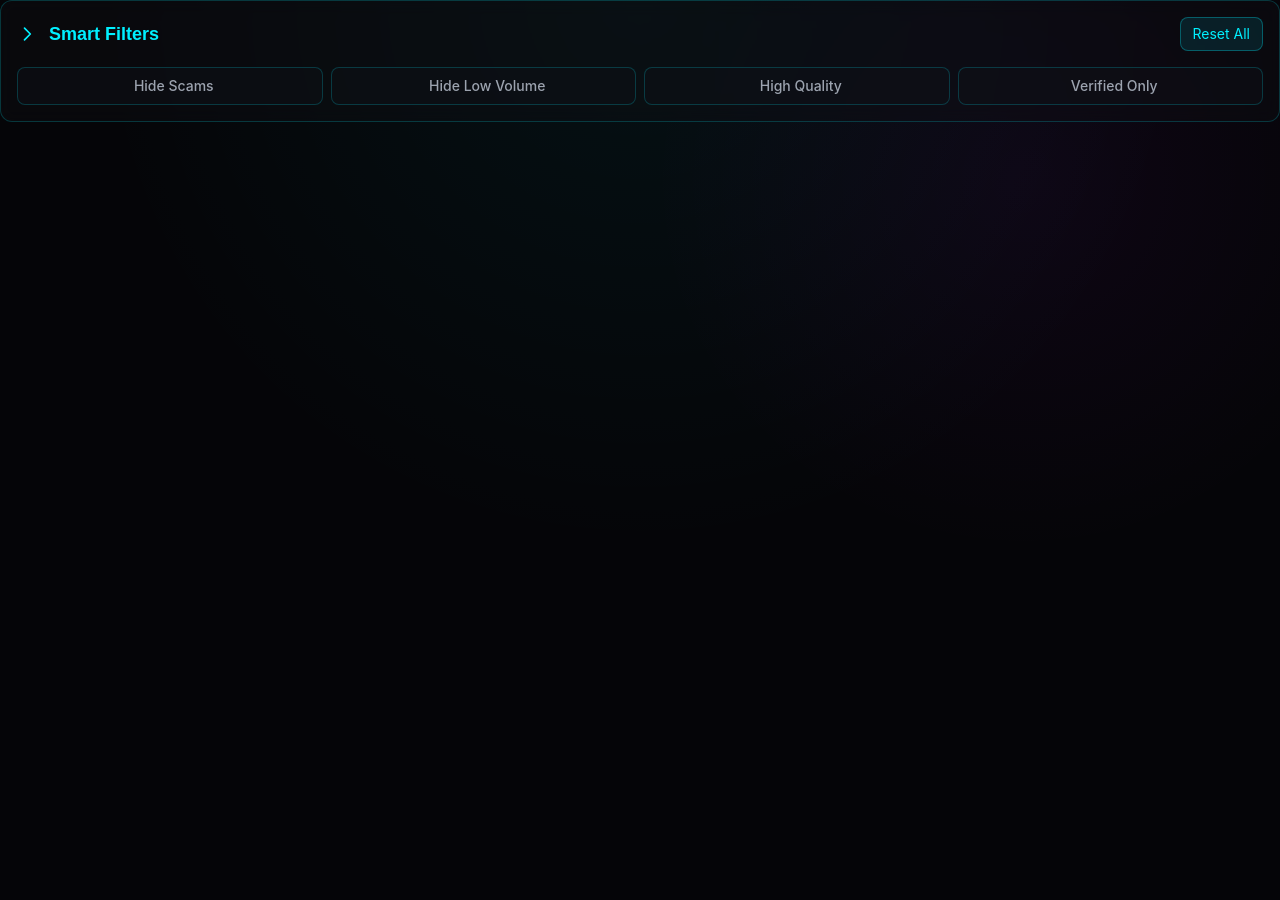
Test: SmartFilters › expands when header is clicked
expect the text "Safe Trades" is not shown: met
Note: Click the header
Step 1. Click the heading "Smart Filters" → (104, 34), box [49,20,159,48]
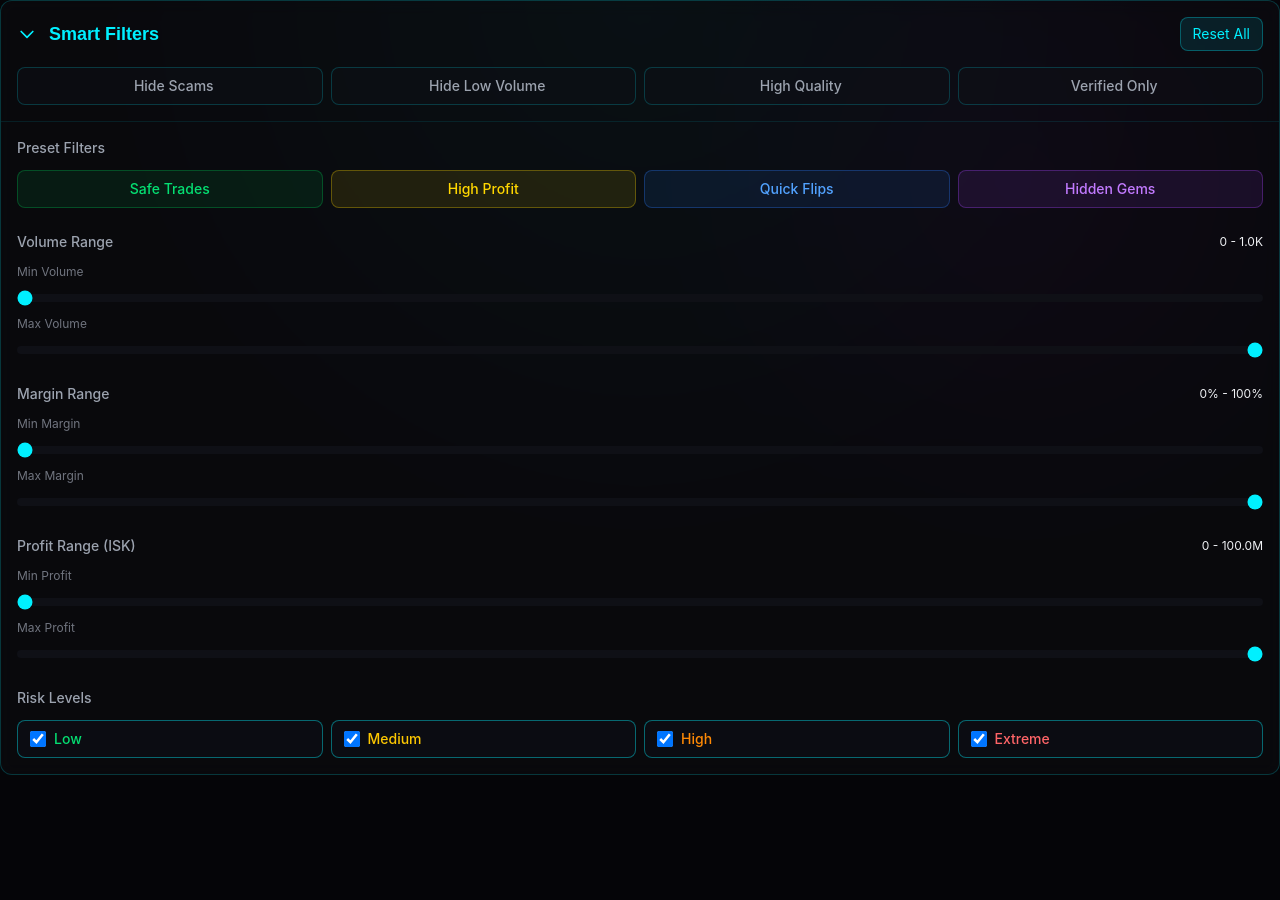
expect the button "Safe Trades" is shown: met, box [17,170,322,208]
expect the button "High Profit" is shown: met, box [330,170,636,208]
expect the button "Quick Flips" is shown: met, box [644,170,950,208]
